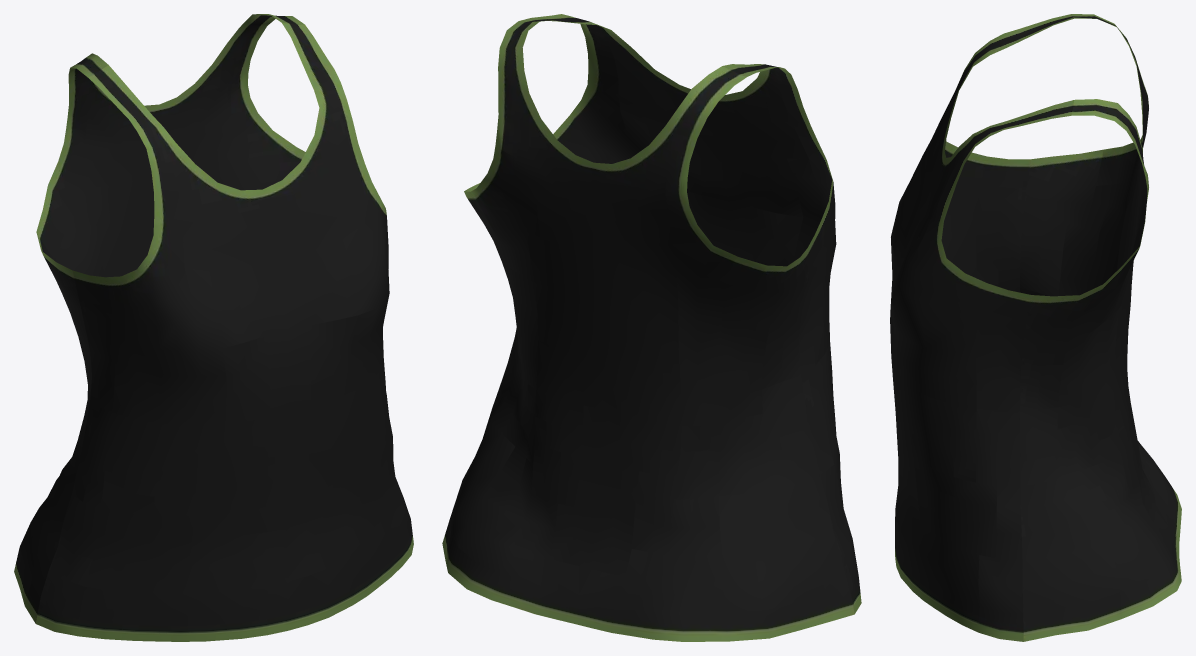
Rendered from mindfront-tank-top-01.glb.
3 views of the same model, side by side, from view 1: azimuth 30°, elevation 25°; view 2: azimuth 150°, elevation 25°; view 3: azimuth 270°, elevation 25° (orthographic). The views are drawn at different scales.
Parts seen in each view (by area): view 1: tank top 01; view 2: tank top 01; view 3: tank top 01.
Boxes of the visible parts, x1,y1,x2,y2 form: tank top 01: (14,14,413,641); tank top 01: (442,14,861,641); tank top 01: (890,14,1181,641).
Size of the model in its own units: 36.69 by 48.92 by 25.94.
1 material, 1 textured.
